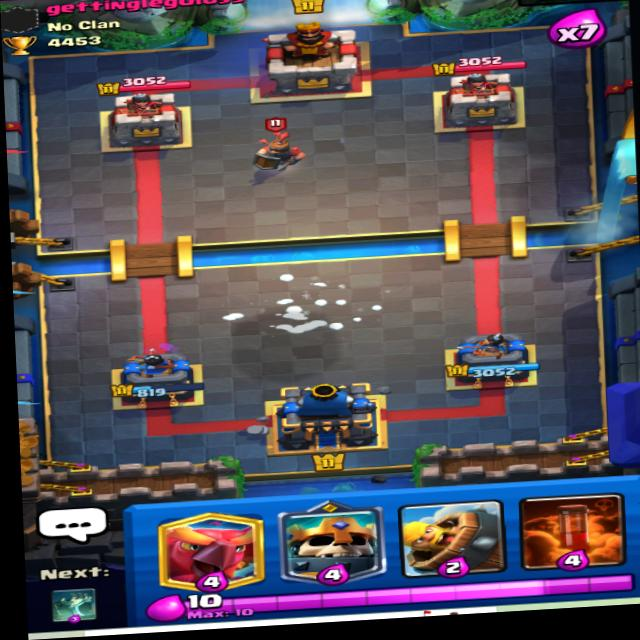royal-recruits: (247, 117, 307, 174)
